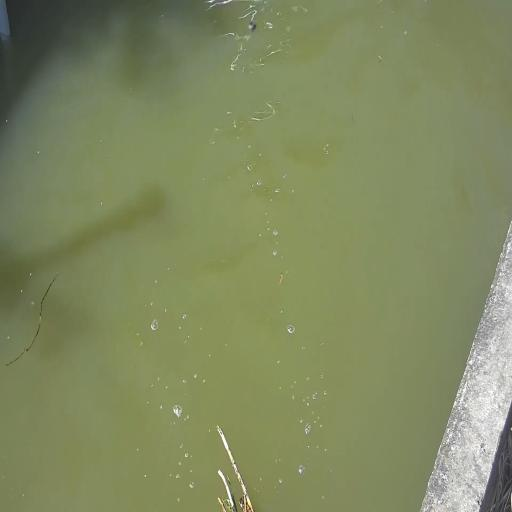twig: (209, 418, 269, 512)
